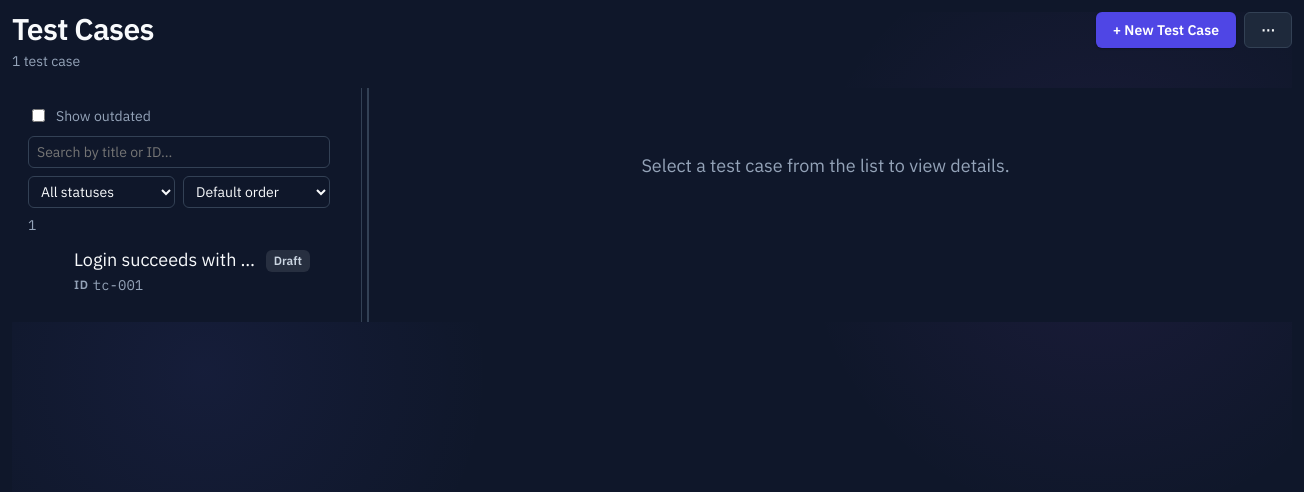
Test: TestCaseEditors Task 2.4 concept remodel (PageHeader / ArtifactRow / Dialog / EmptyState) › shows the no-match variant with only a reset-filters action when the filter matches nothing
Type "no such test case title" into the search field with test id "tc-list-search-input".
click(179, 152); type("no such test case title")  # box [28,136,330,168]
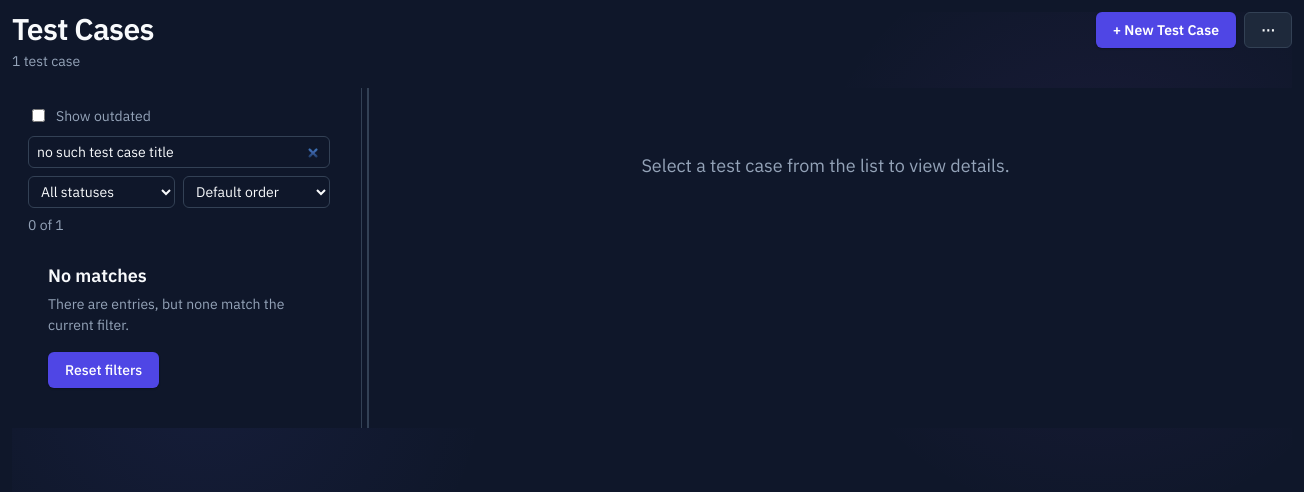
Now the element with test id "tc-list-no-match" is shown, box [48,264,284,388]
Now the button with test id "tc-list-no-match-reset-filters" is shown, box [48,352,159,388]
